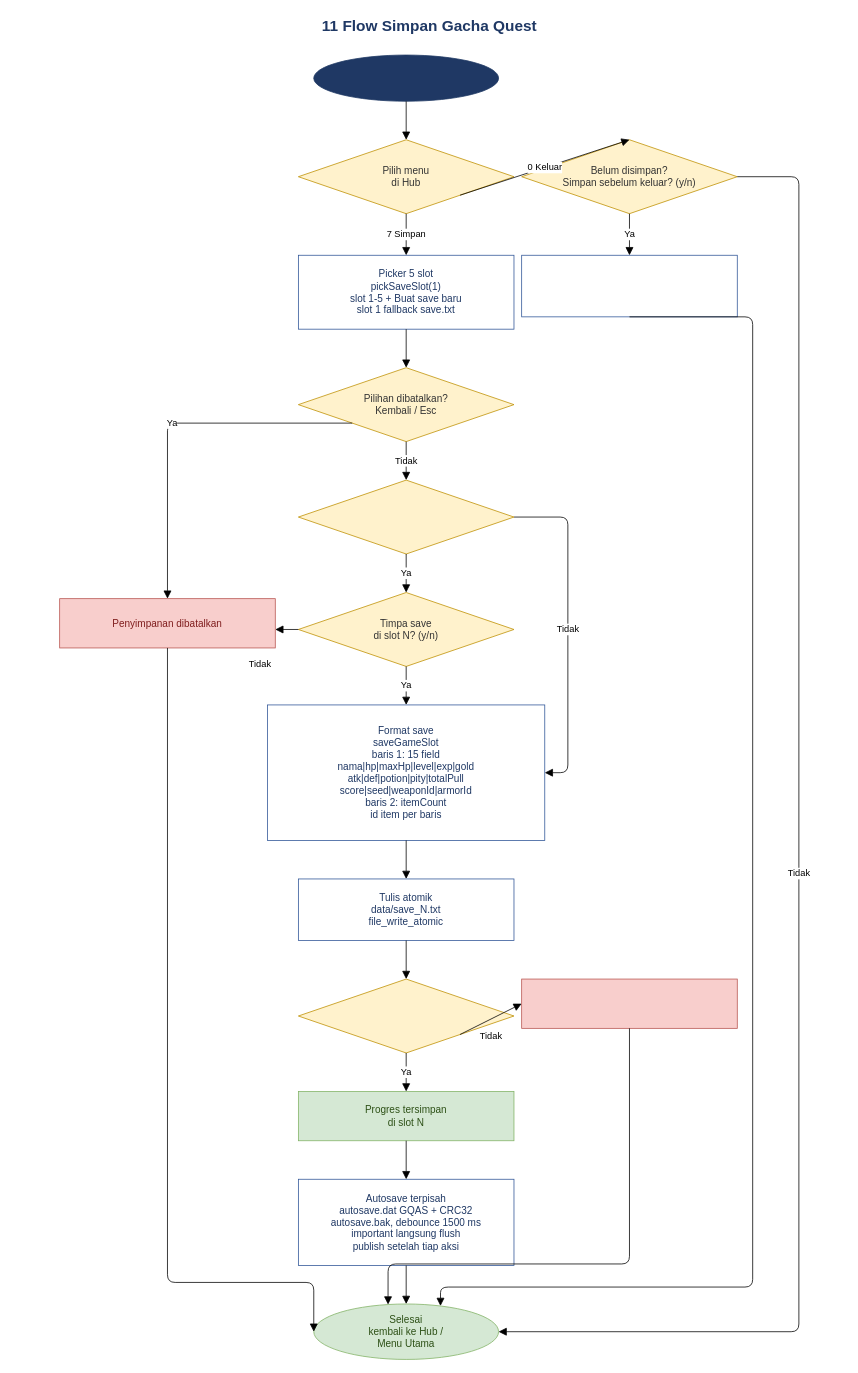
Image size: 858x1373. Some labels were removed from this diagram. Here are the shapes that lost their labels. From the top down, the box of each, then its label:
(313, 54, 499, 101): Mulai Hub Gacha Quest
(521, 254, 737, 317): Simpan via saveGame slot kosong pertama atau slot 1 bila penuh
(298, 479, 514, 554): Slot terisi?
(298, 978, 514, 1053): Tulis berhasil?
(521, 978, 737, 1028): Gagal menulis save slot N
